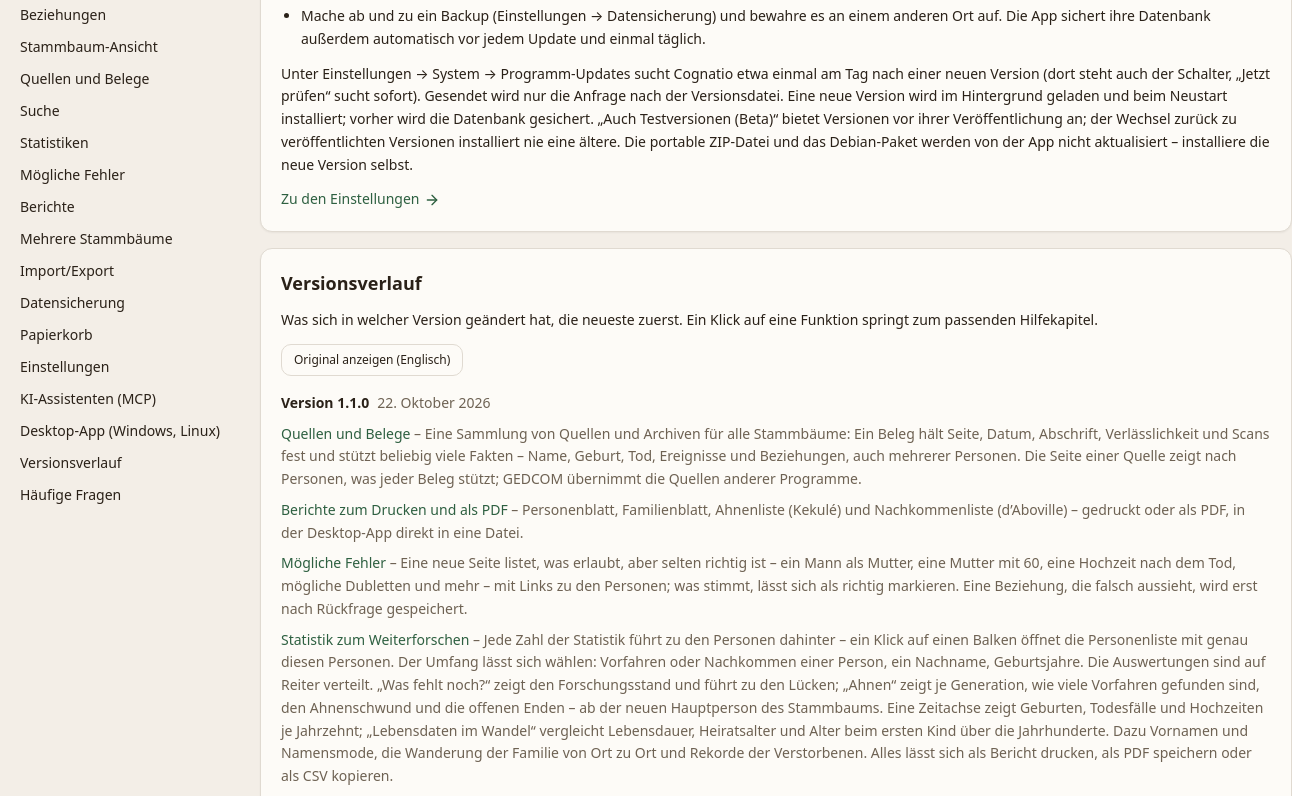
Test: HelpPage › version history › shows the entries in the language of the app and switches to the original
(page scrolled)
Click the button "Original anzeigen (Englisch)": (372, 360) [281,344,463,376]
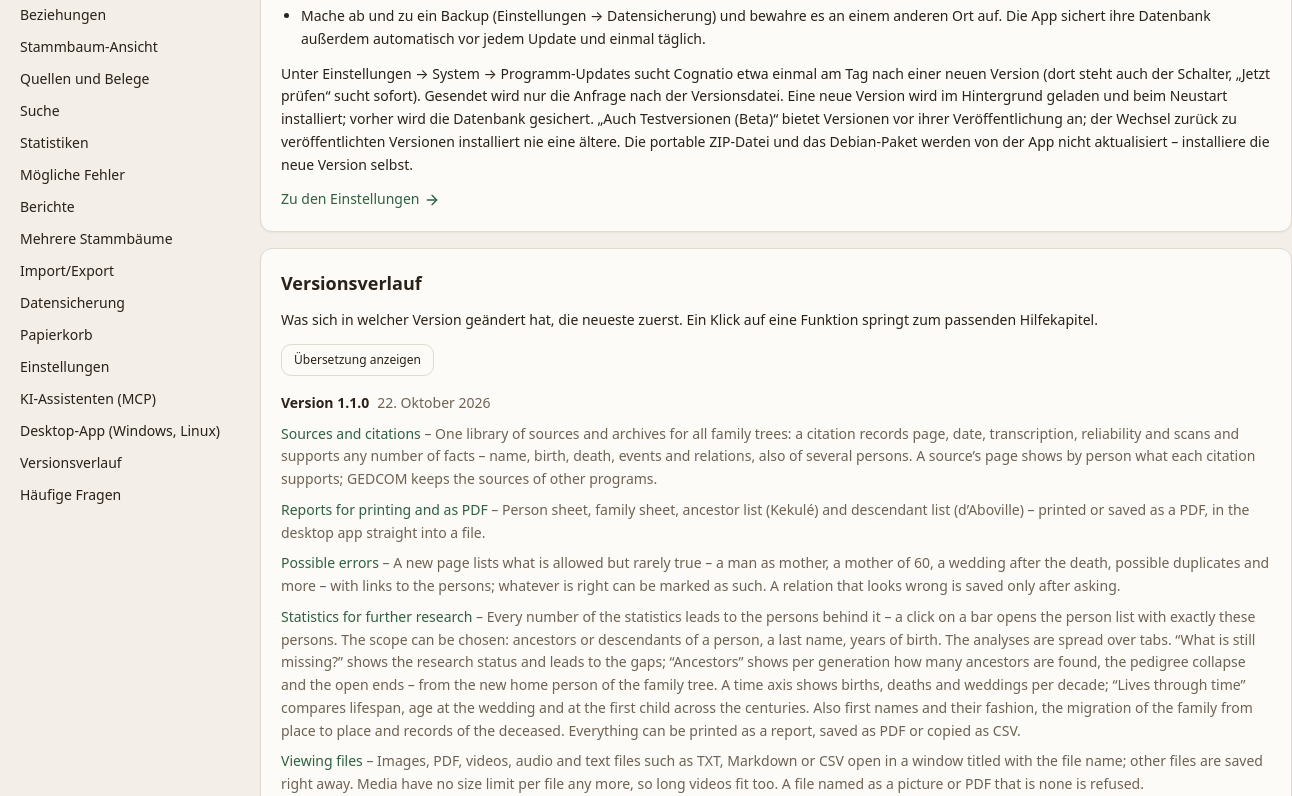
Click the button "Übersetzung anzeigen": (357, 360) [281,344,434,376]
(page scrolled)
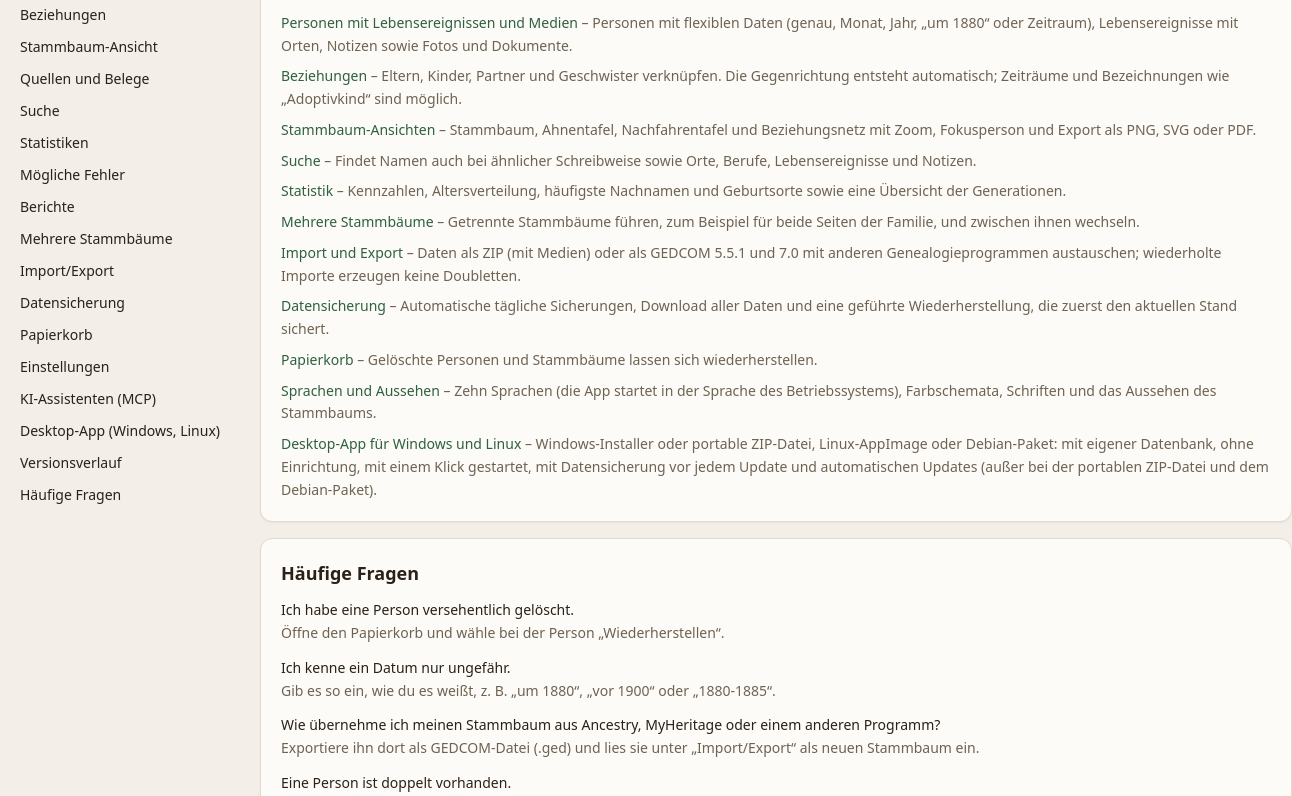
Expected: the link "Papierkorb" below "Import und Export" is shown, [281,350,354,369]
